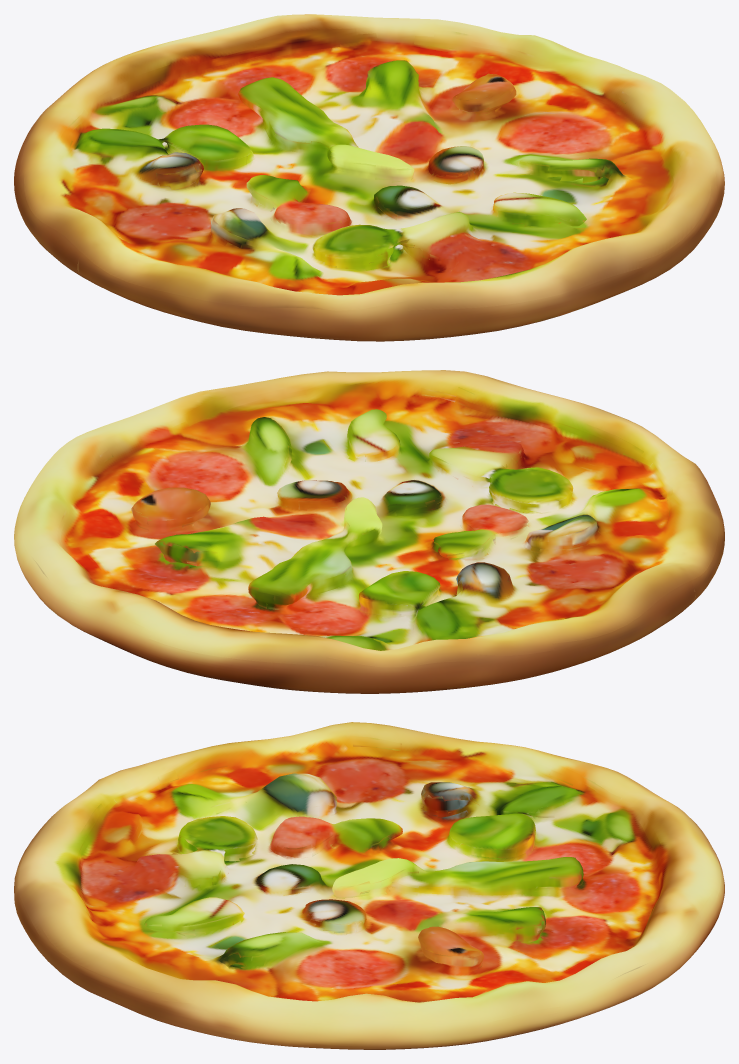
The model's file is Pizza.fbx.
The picture shows the model from 3 angles, top to bottom: view 1: azimuth 30°, elevation 25°; view 2: azimuth 150°, elevation 25°; view 3: azimuth 270°, elevation 25°; orthographic projection.
Parts seen in each view (by area): view 1: model; view 2: model; view 3: model.
Boxes of the visible parts, box(x1,y1,x2,y2) form: model: box(14, 14, 724, 341); model: box(14, 370, 724, 693); model: box(14, 722, 724, 1049).
Size of the model in its own units: 190 by 16.39 by 190.
